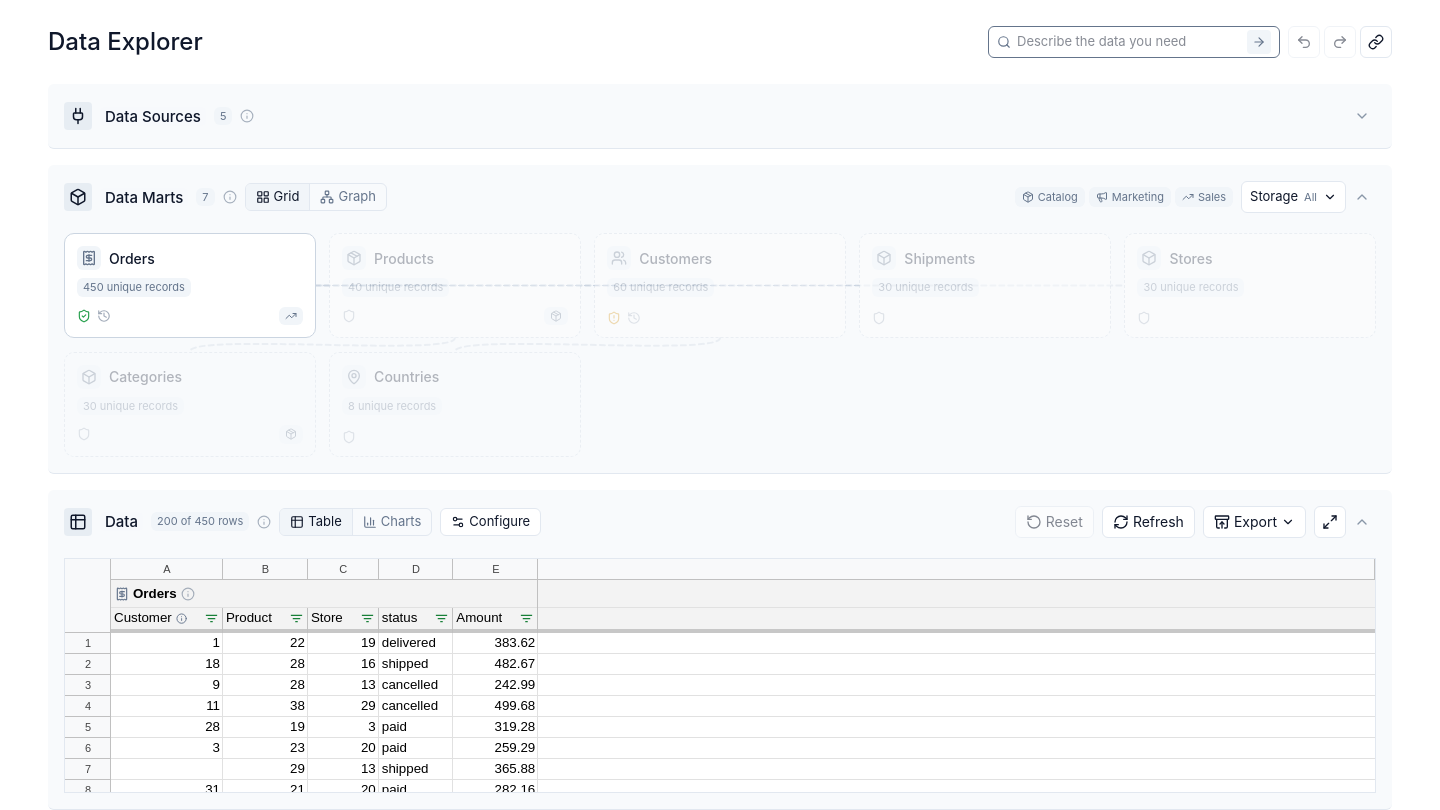
with no Google Sheets destination Export is still a menu: the assistants, a separator, the copy items, a separator, then Create Data Mart
Click the button "Export" at (1254, 522), box [1203, 506, 1306, 538]
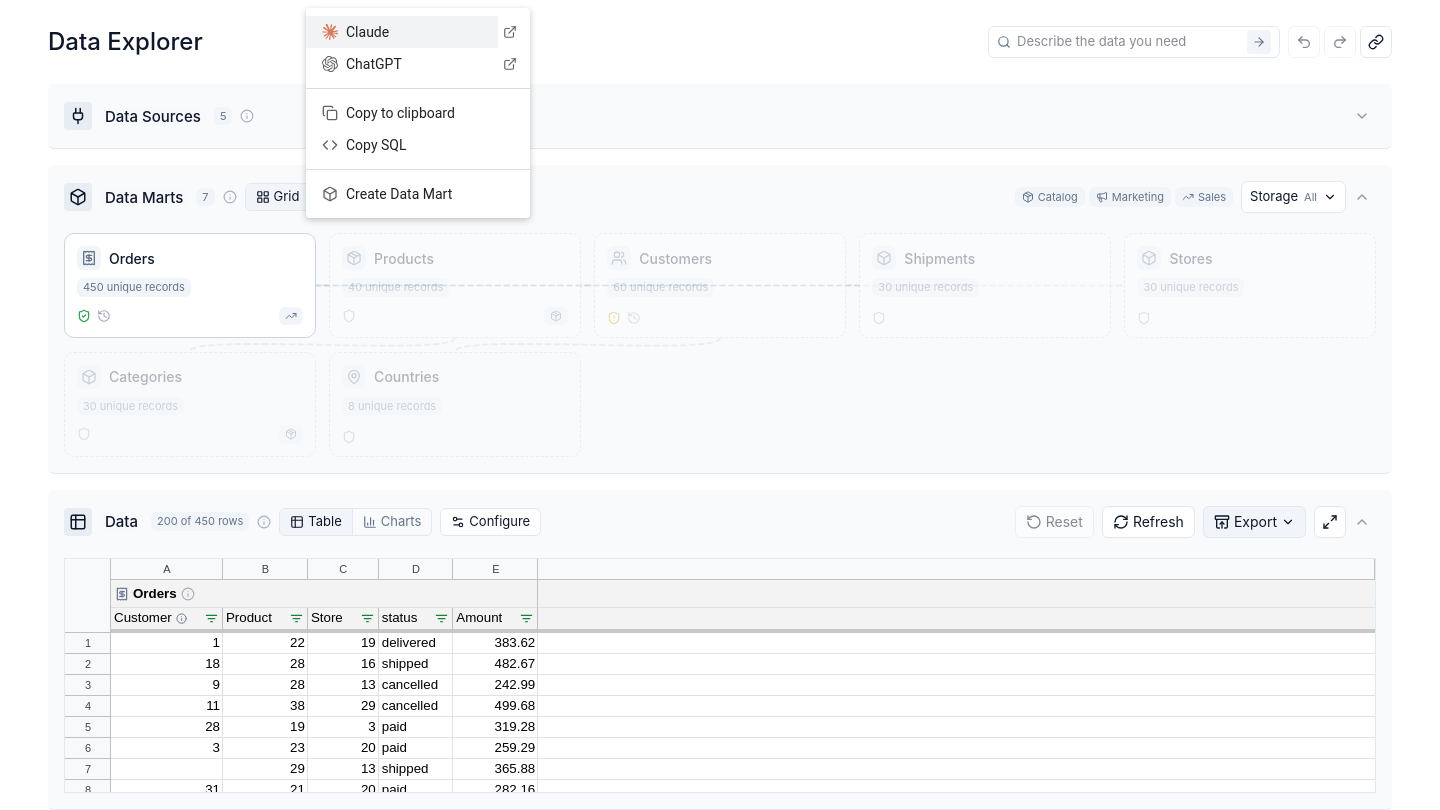
Expected: the element "Claude" is shown, [306, 16, 530, 80]
